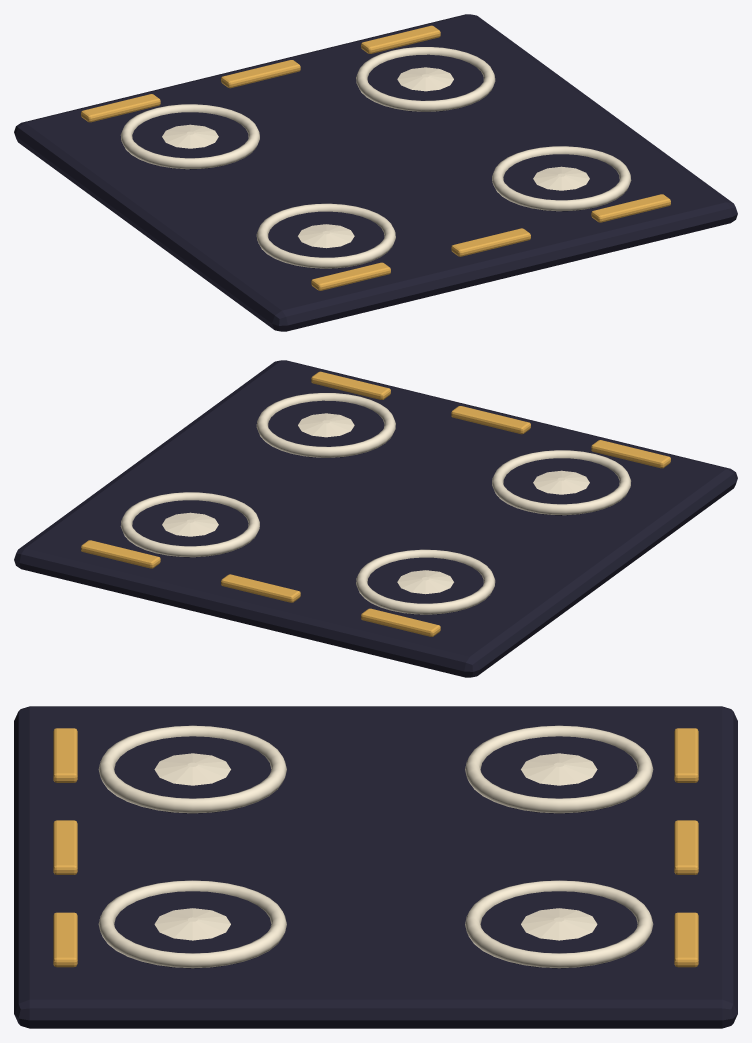
File: trap-spikes-retracted.glb
The picture shows the model from 3 angles, top to bottom: view 1: azimuth 30°, elevation 25°; view 2: azimuth 150°, elevation 25°; view 3: azimuth 270°, elevation 25°; orthographic projection. The views are drawn at different scales.
Visible parts, largest first — view 1: socket-plate.001, dark-socket.004, dark-socket.005, dark-socket.006, dark-socket.007, socket-rim.004, socket-rim.005, socket-rim.006, socket-rim.007, state-strip.008, state-strip.011, state-strip.006 (+7 smaller); view 2: socket-plate.001, dark-socket.005, dark-socket.004, dark-socket.006, dark-socket.007, socket-rim.005, socket-rim.004, socket-rim.007, socket-rim.006, state-strip.008, state-strip.011, state-strip.006 (+7 smaller); view 3: socket-plate.001, dark-socket.004, dark-socket.005, dark-socket.006, dark-socket.007, socket-rim.006, socket-rim.007, socket-rim.004, socket-rim.005, spike-(0.21, -0.21).001, spike-(0.21, 0.21).001, spike-(-0.21, -0.21).001 (+7 smaller).
Boxes of the visible parts, bbox=[...] form: socket-plate.001: bbox=[14, 14, 737, 331]; dark-socket.004: bbox=[268, 211, 384, 268]; dark-socket.005: bbox=[132, 112, 248, 169]; dark-socket.006: bbox=[503, 154, 619, 211]; dark-socket.007: bbox=[367, 54, 483, 111]; socket-rim.004: bbox=[256, 203, 395, 268]; socket-rim.005: bbox=[120, 104, 259, 169]; socket-rim.006: bbox=[492, 146, 631, 211]; socket-rim.007: bbox=[356, 47, 495, 111]; state-strip.008: bbox=[591, 194, 670, 222]; state-strip.011: bbox=[361, 25, 440, 53]; state-strip.006: bbox=[311, 262, 390, 290]; socket-plate.001: bbox=[14, 360, 737, 677]; dark-socket.005: bbox=[367, 557, 483, 614]; dark-socket.004: bbox=[503, 458, 619, 515]; dark-socket.006: bbox=[268, 400, 384, 457]; dark-socket.007: bbox=[132, 500, 248, 557]; socket-rim.005: bbox=[356, 549, 495, 614]; socket-rim.004: bbox=[492, 450, 631, 515]; socket-rim.007: bbox=[120, 492, 259, 557]; socket-rim.006: bbox=[256, 393, 395, 457]; state-strip.008: bbox=[311, 371, 390, 399]; state-strip.011: bbox=[81, 540, 160, 568]; state-strip.006: bbox=[591, 440, 670, 468]; socket-plate.001: bbox=[14, 706, 737, 1028]; dark-socket.004: bbox=[114, 736, 271, 813]; dark-socket.005: bbox=[480, 736, 637, 813]; dark-socket.006: bbox=[114, 891, 271, 968]; dark-socket.007: bbox=[480, 891, 637, 968]; socket-rim.006: bbox=[98, 880, 286, 968]; socket-rim.007: bbox=[465, 880, 653, 968]; socket-rim.004: bbox=[98, 725, 286, 813]; socket-rim.005: bbox=[465, 725, 653, 813]; spike-(0.21, -0.21).001: bbox=[154, 908, 230, 940]; spike-(0.21, 0.21).001: bbox=[521, 908, 597, 940]; spike-(-0.21, -0.21).001: bbox=[154, 753, 230, 785].
Size of the model in its own units: 0.83 by 0.053 by 0.83.
